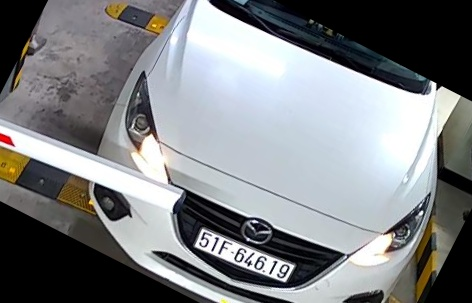plate: (197, 228, 308, 285)
